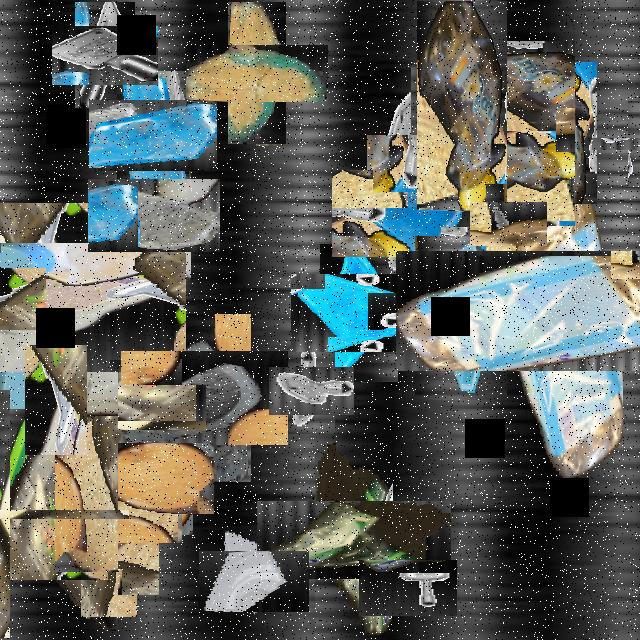glass: (138, 333, 270, 463), (415, 236, 507, 400), (350, 152, 472, 275), (305, 259, 413, 367), (102, 164, 206, 266), (103, 85, 203, 185), (211, 538, 297, 624), (70, 528, 148, 606)
metal: (64, 13, 146, 97), (25, 345, 87, 455), (369, 550, 447, 627), (373, 89, 431, 192), (278, 358, 344, 424), (478, 193, 538, 254), (376, 285, 428, 337), (609, 119, 640, 168)
plastic: (448, 197, 640, 424), (0, 372, 118, 638), (0, 223, 166, 409), (0, 304, 126, 510), (417, 2, 507, 212), (286, 472, 422, 609), (0, 416, 108, 580), (0, 449, 69, 578)
wood: (422, 52, 586, 215), (41, 430, 168, 558), (207, 23, 307, 123), (110, 432, 204, 524)
